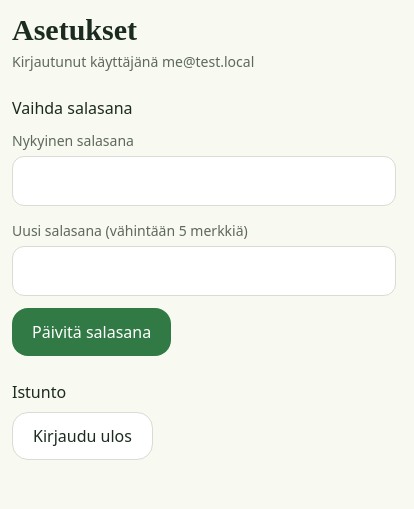
it: Settings › shows an error when the current password is wrong
The width and height of the screenshot is (414, 509).
In the password field labelled "Nykyinen salasana": (204, 181) [12, 156, 396, 206], type "wrong"
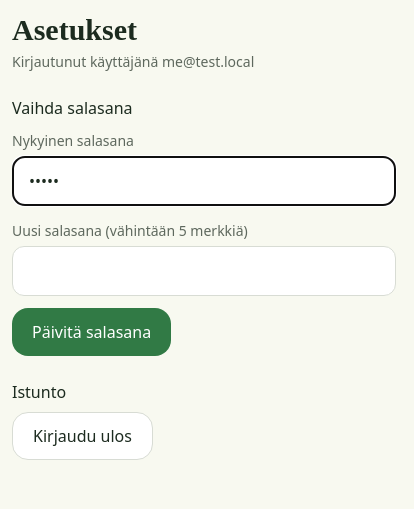
In the password field labelled "Uusi salasana (vähintään 5 merkkiä)": (204, 271) [12, 246, 396, 296], type "new-password-xx"
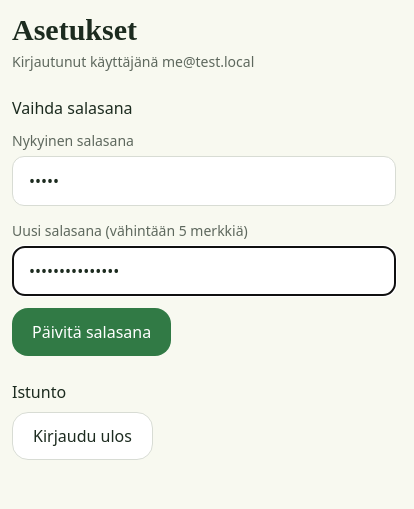
Click the button "Päivitä salasana": click(92, 332) [12, 308, 171, 356]
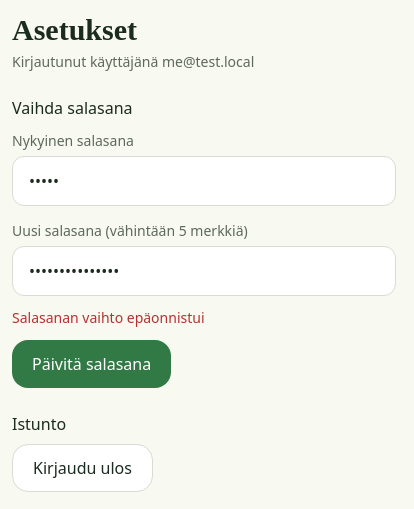
Now the text "Salasanan vaihto epäonnistui" is shown, box [12, 308, 204, 327]
